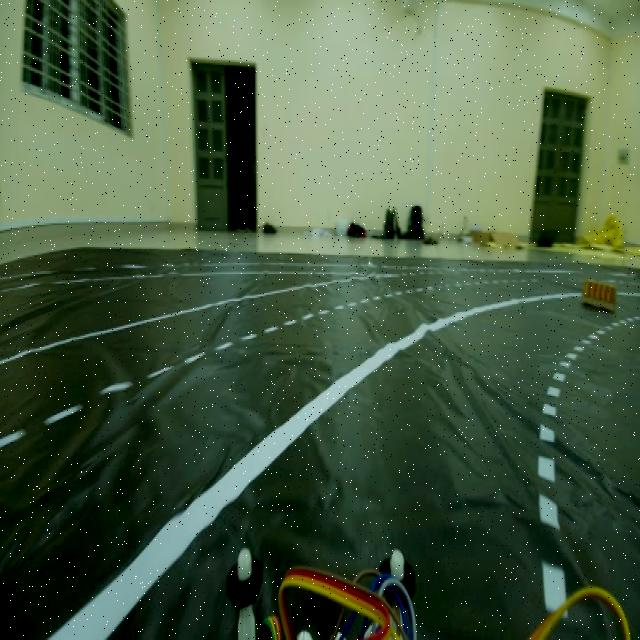roadblock: (577, 259, 622, 322)
